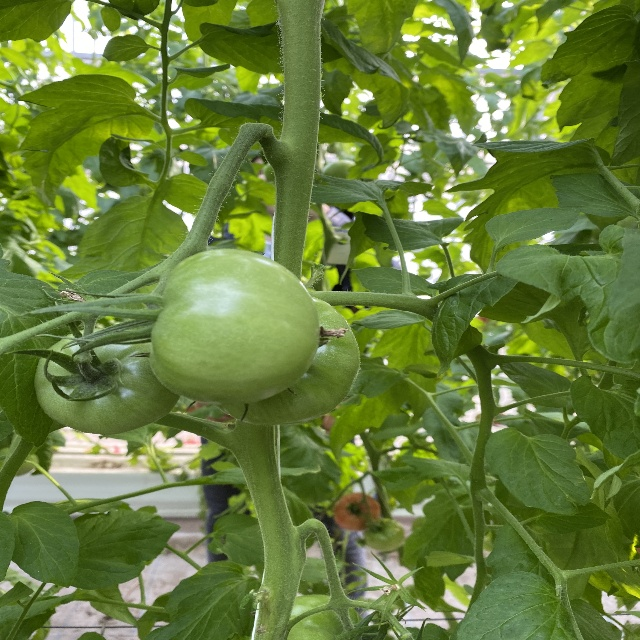b_green: (150, 248, 322, 404), (218, 295, 361, 425), (34, 329, 181, 435), (283, 595, 369, 640)
